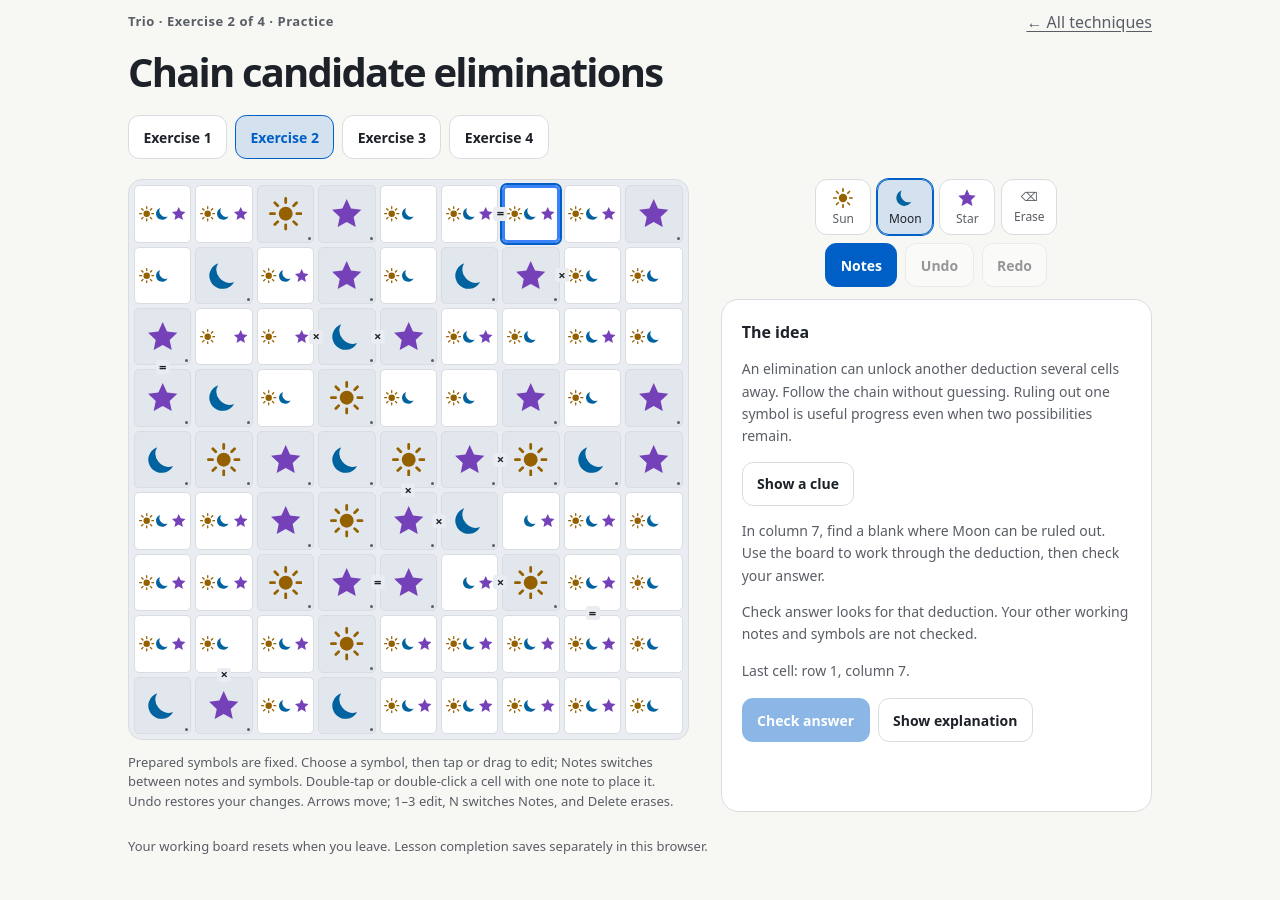
Test: shows notes as they are edited across cells, then checks an answer without discarding the working board
Press 2 in the cell named "Row 1, column 7, Empty, notes Sun, Moon, Star; same as row 1", box [502,185,560,243]
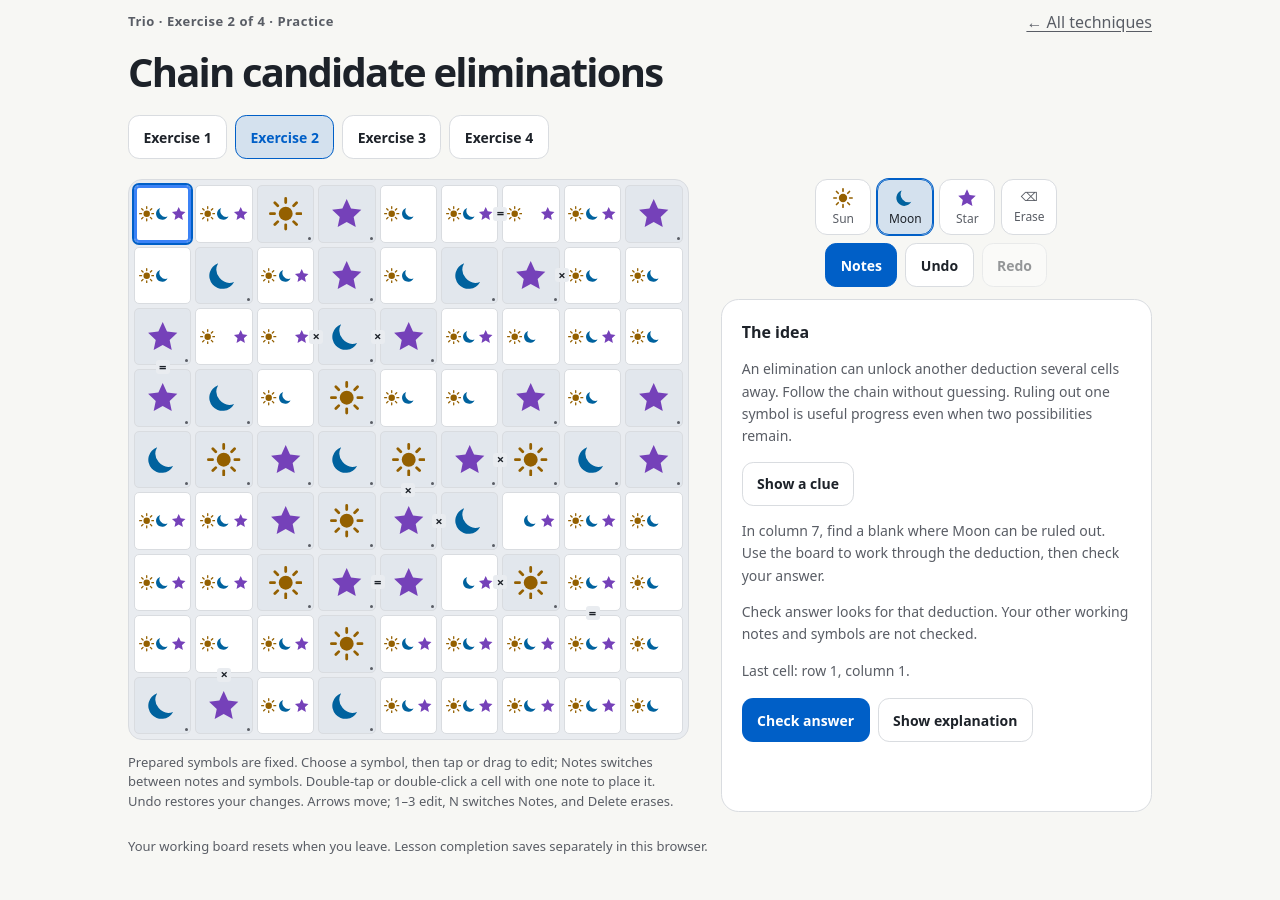
Press 2 in the cell named "Row 1, column 1, Empty, notes Sun, Moon, Star", box [134,185,191,243]
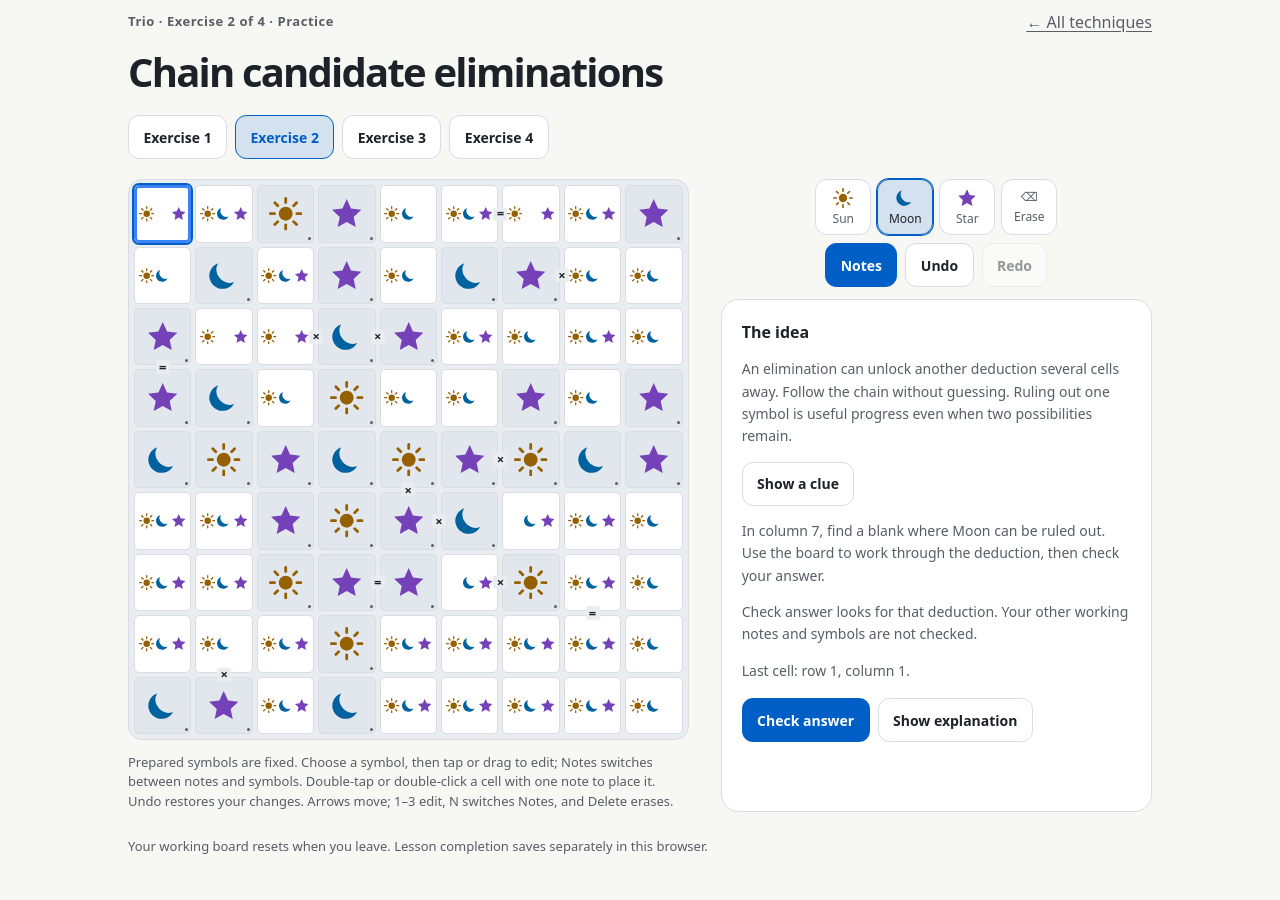
Click the button "Check answer".
click(806, 720)  # box [742,698,870,742]
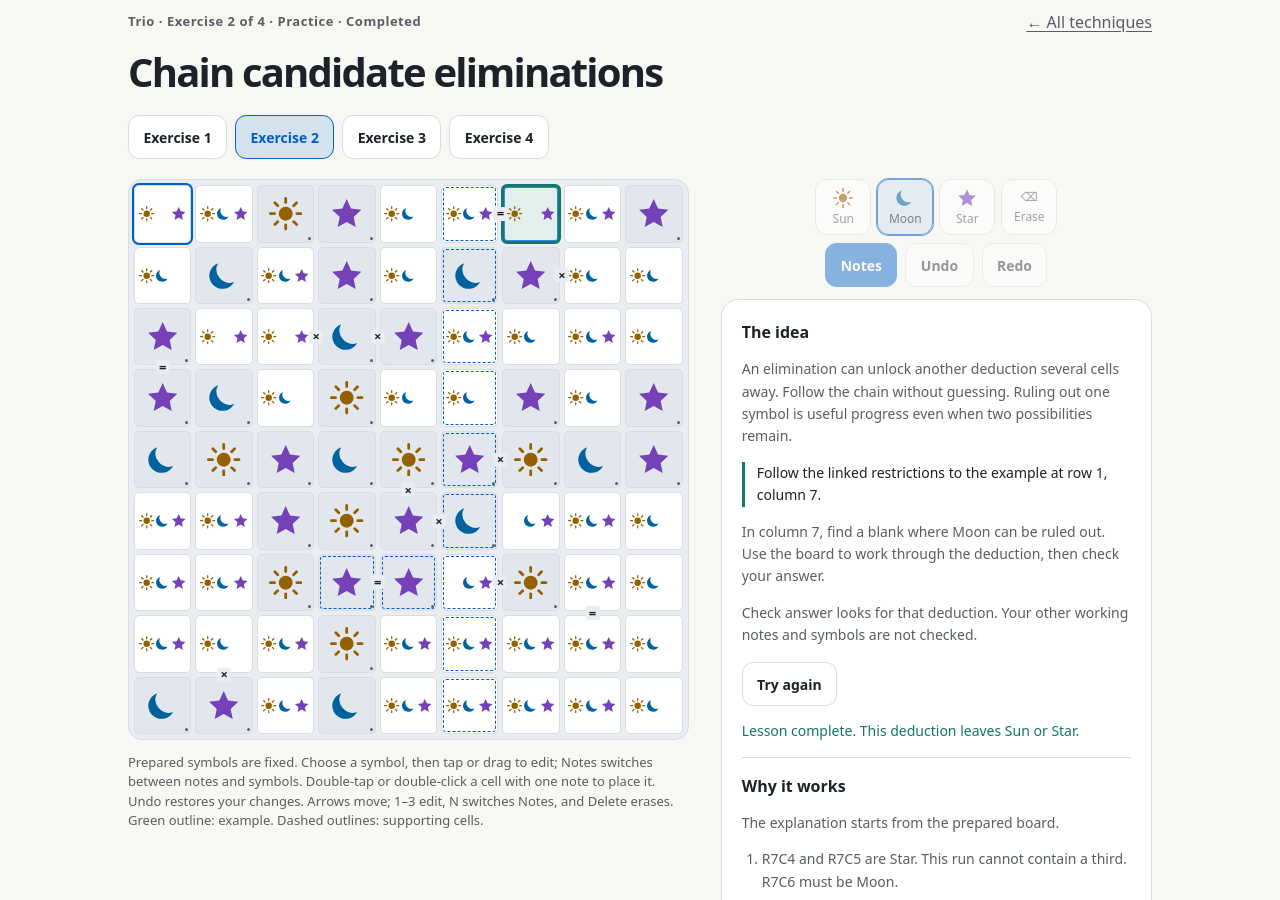
Expected: the message with class "lesson-feedback" shows "Lesson complete", [742,722,1079,740]
